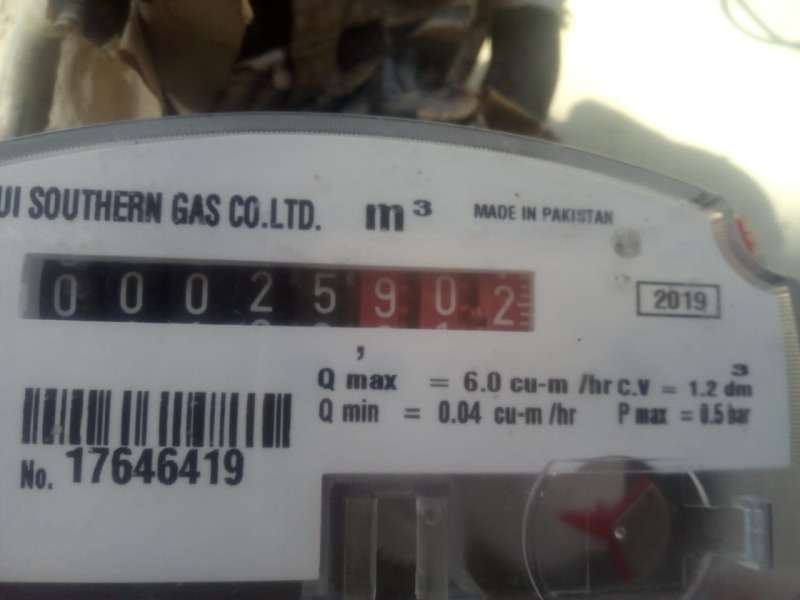ssgc: (18, 250, 536, 336)
